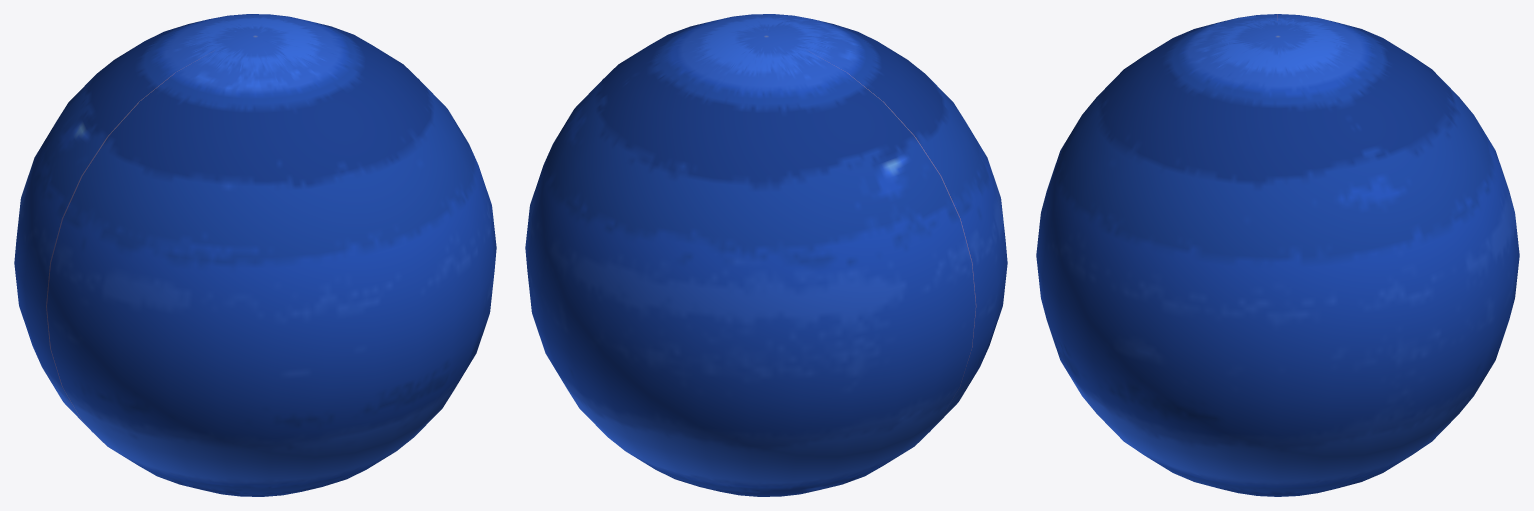
The model's file is 09_node_NEPTUNE_0.fbx.
3 renders of one model, left to right at view 1: azimuth 30°, elevation 25°; view 2: azimuth 150°, elevation 25°; view 3: azimuth 270°, elevation 25°, orthographic.
Parts seen in each view (by area): view 1: 09_node_NEPTUNE_0; view 2: 09_node_NEPTUNE_0; view 3: 09_node_NEPTUNE_0.
Part boxes in pixels (left/top/right/bottom): 09_node_NEPTUNE_0: left=14, top=14, right=496, bottom=496; 09_node_NEPTUNE_0: left=525, top=14, right=1007, bottom=496; 09_node_NEPTUNE_0: left=1036, top=14, right=1519, bottom=496.
Bounding box in the file's own units: 83 × 83 × 83.
